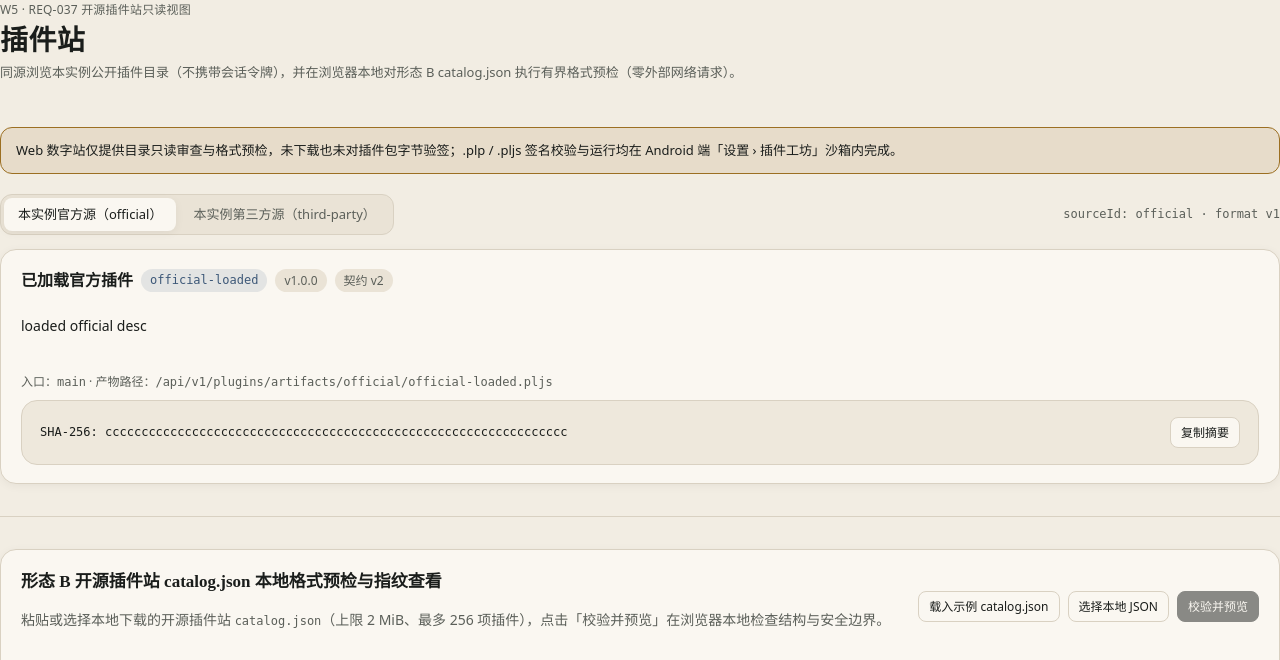
Core views: XSS neutralization, 1409 conflict reload/merge, and B5 trust copy › synchronously invalidates stale official view/request on click switch to third-party tab (R2 v1.2)
Click the tab "本实例第三方源（third-party）" at (285, 214), box [179,198,390,231]
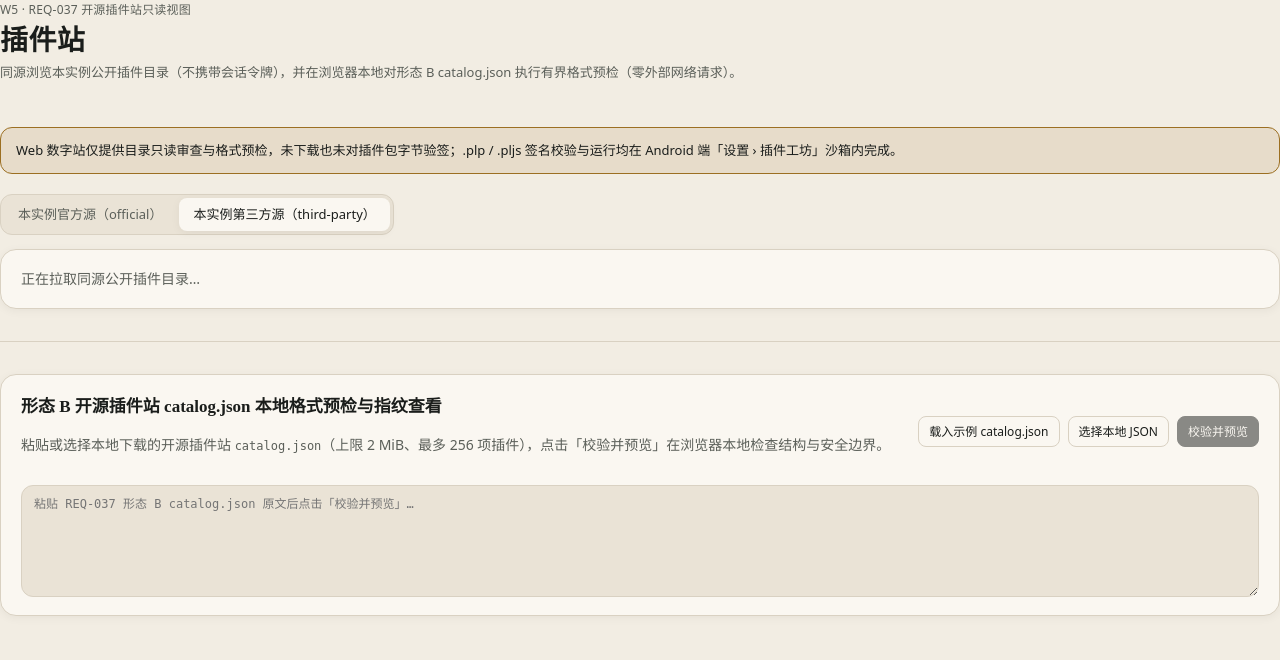
Now the text "已加载官方插件" is gone
Now the text "正在拉取同源公开插件目录…" is shown, box [0,249,1279,309]
Now switch back to official (creates pending request #2) and immediately switch to third-party again
Click the tab "本实例官方源（official）" at (90, 214), box [4,198,176,231]
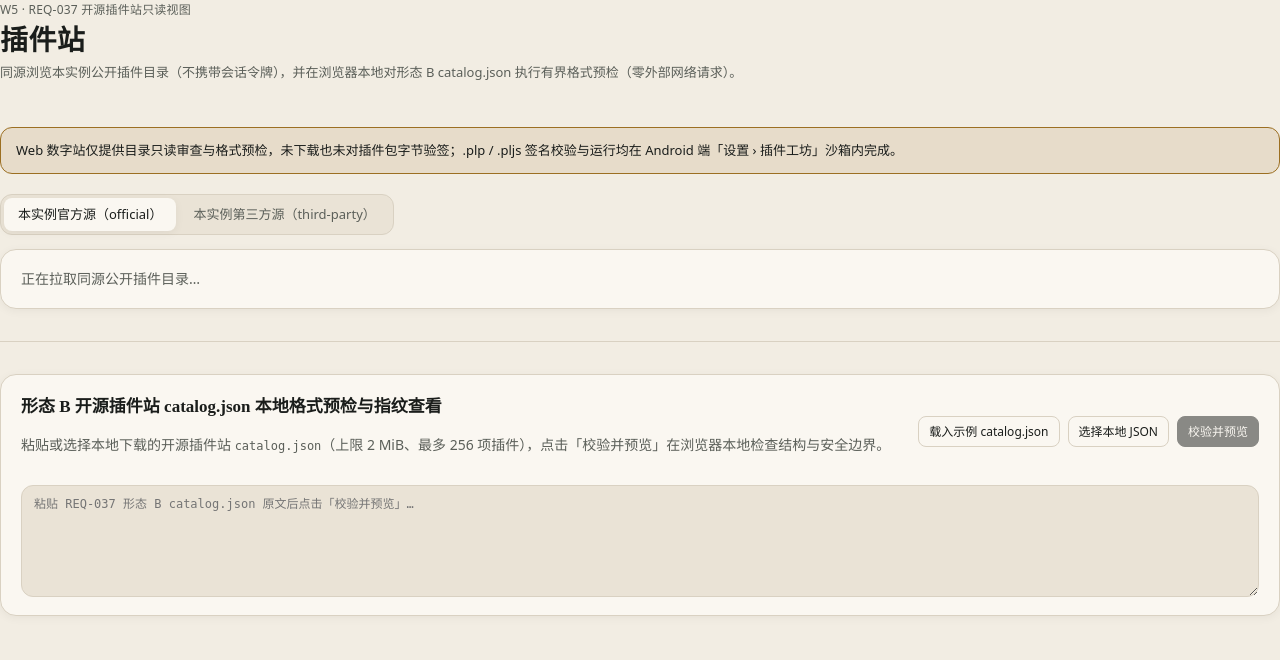
Click the tab "本实例第三方源（third-party）" at (285, 214), box [179,198,390,231]
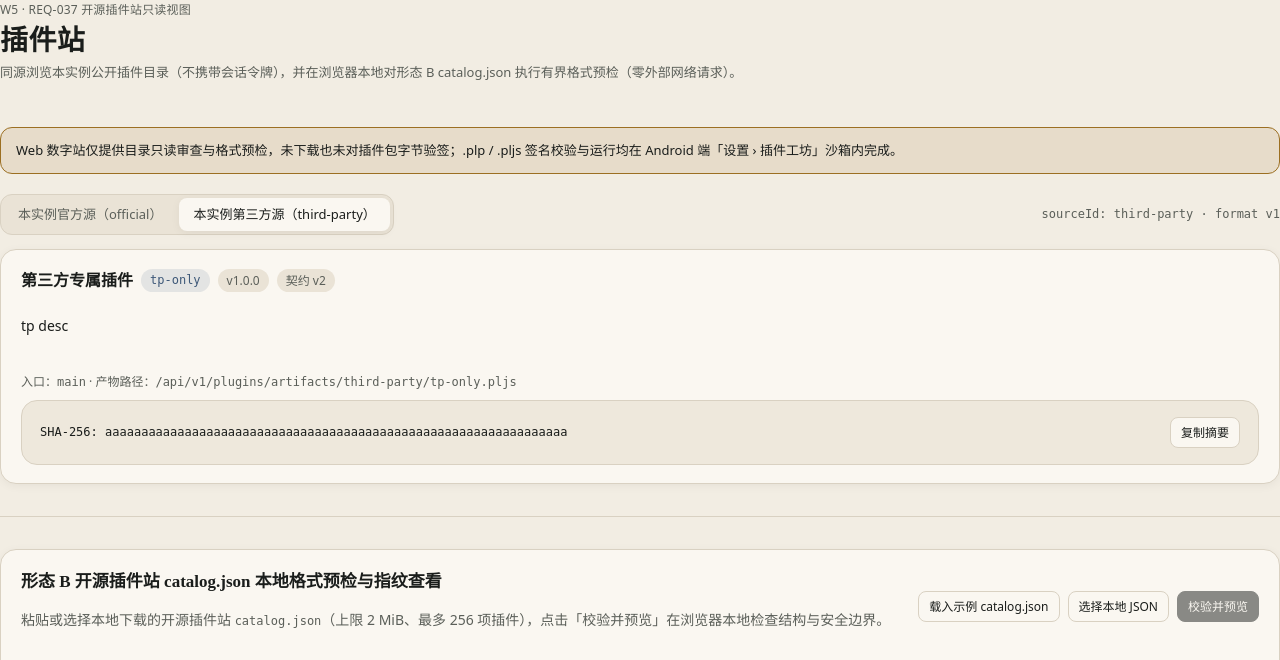
Now the text "第三方专属插件" is shown, box [21,268,133,293]
